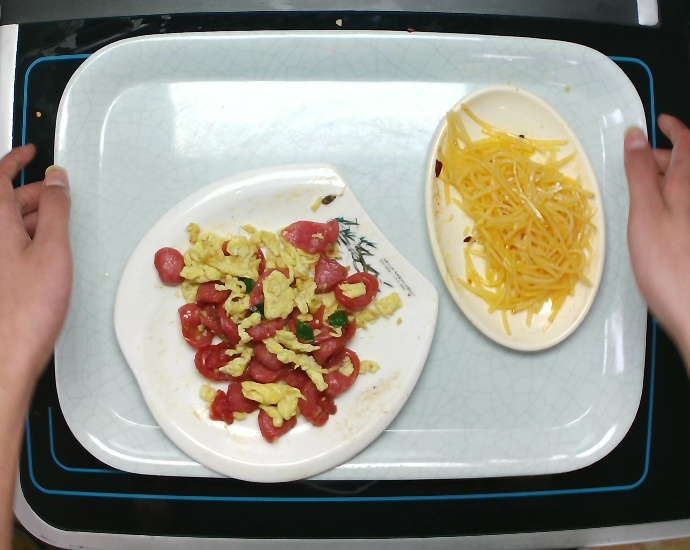JYsf-Mian_Pan: (110, 158, 441, 485)
JYsf-Tuo_Yuan_Wan: (421, 83, 608, 355)
